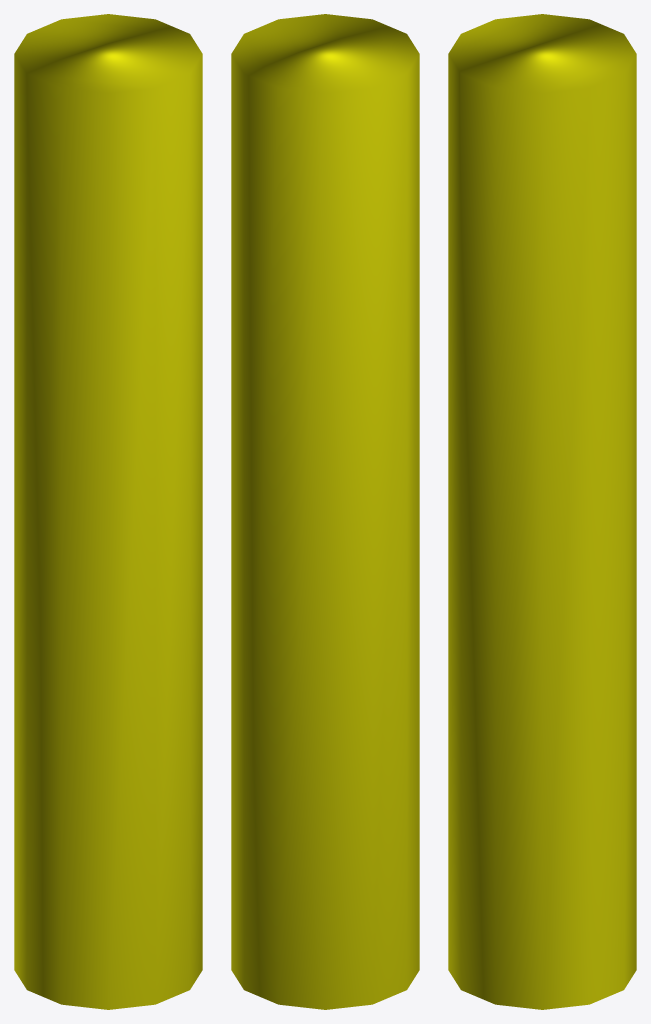
Rendered from B_Pillar_01_B1.fbx.
3 renders of one model, left to right at view 1: azimuth 30°, elevation 25°; view 2: azimuth 150°, elevation 25°; view 3: azimuth 270°, elevation 25°, orthographic.
Parts seen in each view (by area): view 1: B_Pillar_01_B1; view 2: B_Pillar_01_B1; view 3: B_Pillar_01_B1.
Boxes of the visible parts, x1,y1,x2,y2 form: B_Pillar_01_B1: (14, 14, 202, 1009); B_Pillar_01_B1: (231, 14, 419, 1009); B_Pillar_01_B1: (448, 14, 636, 1009).
Size of the model in its own units: 102 by 546 by 102.
